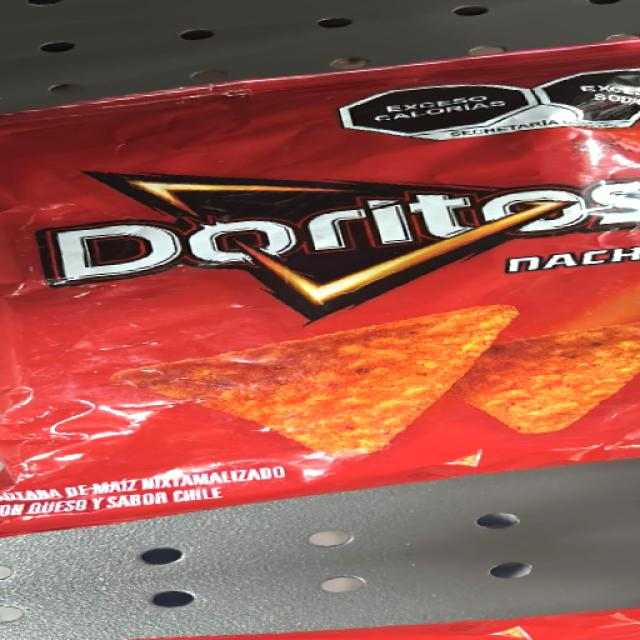doritosNacho: (16, 108, 634, 473)
